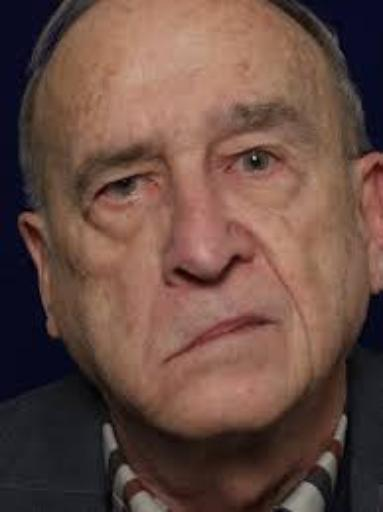left_eye: (224, 151, 287, 182)
left_lip_corner: (262, 312, 290, 337)
right_eye: (93, 172, 160, 211)
right_lip_corner: (157, 349, 189, 370)
